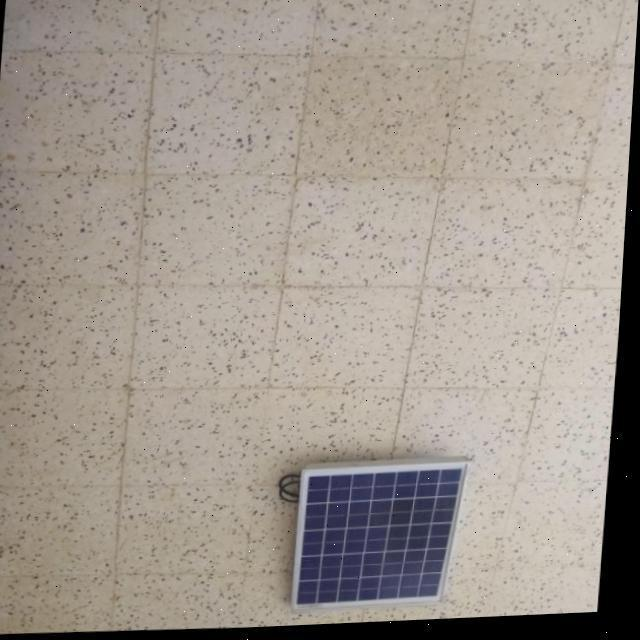Normal Solar Panel: (298, 461, 476, 618)
